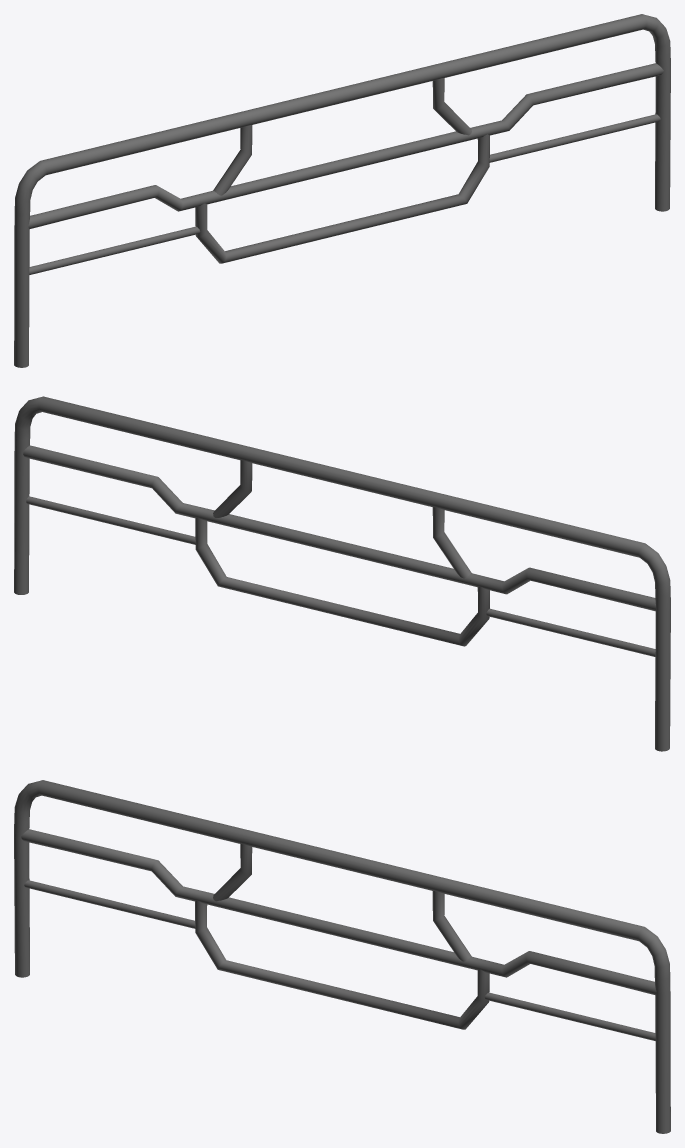
File: sf_railing_3.glb
The picture shows the model from 3 angles, top to bottom: view 1: azimuth 30°, elevation 25°; view 2: azimuth 150°, elevation 25°; view 3: azimuth 330°, elevation 25°; orthographic projection.
Visible parts, largest first — view 1: Prop_Rail_3; view 2: Prop_Rail_3; view 3: Prop_Rail_3.
Boxes of the visible parts, <box> form: Prop_Rail_3: <box>14,14,670,367</box>; Prop_Rail_3: <box>14,396,670,751</box>; Prop_Rail_3: <box>14,780,670,1133</box>.
Size of the model in its own units: 2.97 by 0.8621 by 0.0666.
Materials: 1 (1 with a texture image).
